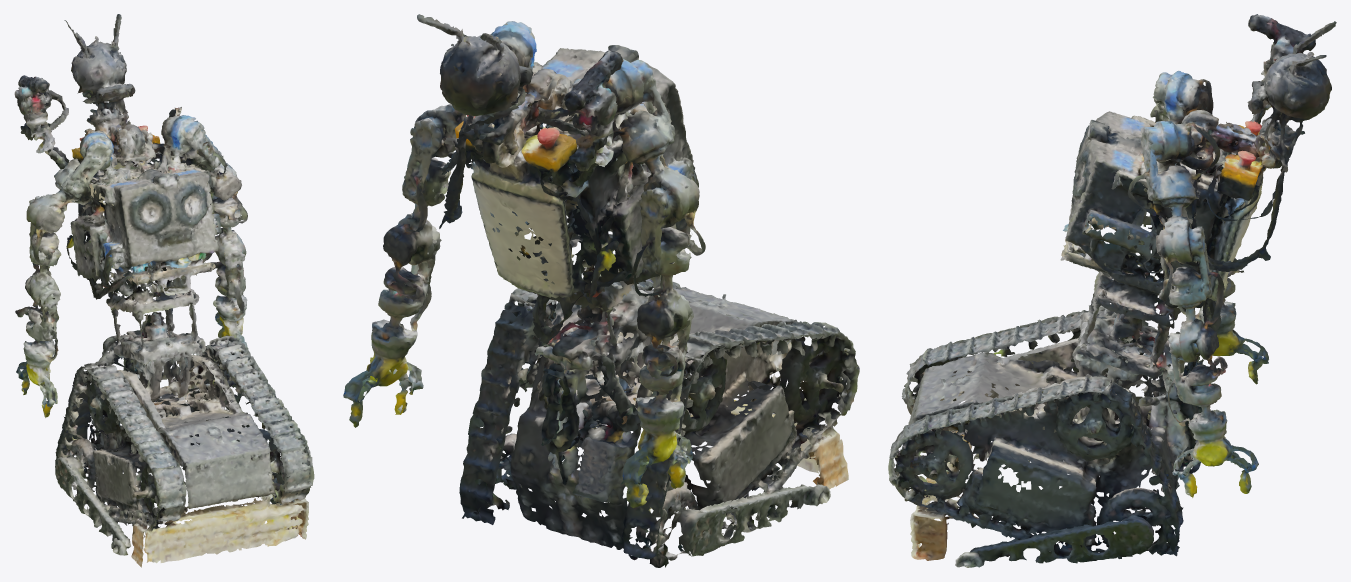
The model's file is rob-head-backward-flipper-lifted.glb.
3 renders of one model, left to right at view 1: azimuth 30°, elevation 25°; view 2: azimuth 150°, elevation 25°; view 3: azimuth 270°, elevation 25°, orthographic. The views are drawn at different scales.
Visible parts, largest first — view 1: ROB head backward, flipper lifted; view 2: ROB head backward, flipper lifted; view 3: ROB head backward, flipper lifted.
Part boxes in pixels (x1=…): ROB head backward, flipper lifted: x1=14, y1=14, x2=314, y2=567; ROB head backward, flipper lifted: x1=343, y1=14, x2=859, y2=567; ROB head backward, flipper lifted: x1=888, y1=14, x2=1336, y2=567.
Bounding box in the file's own units: 0.6498 × 1.14 × 0.9266.
